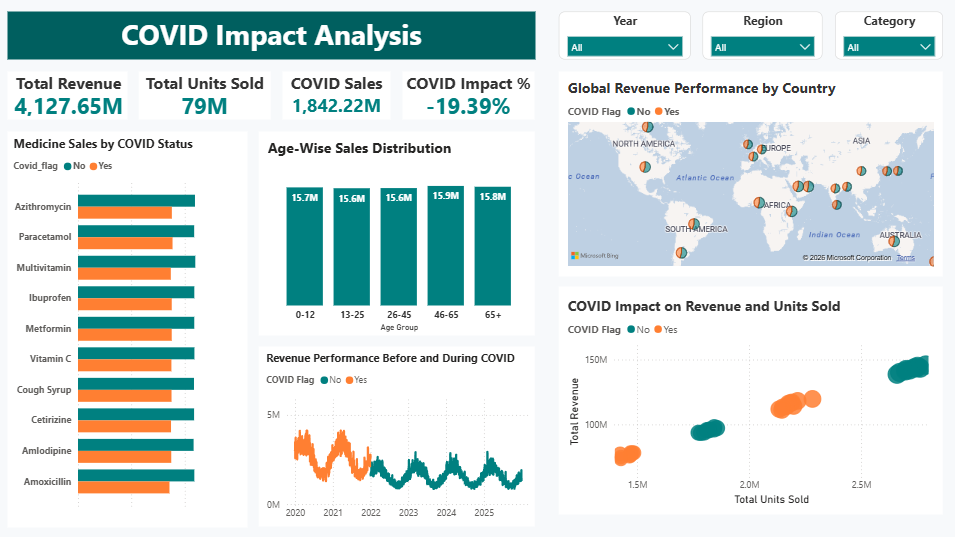

The dashboard page shown, as its layout file describes it:
{"tool":"powerbi","page":{"name":"COVID Impact Analysis","canvas":[1280,720],"ordinal":4},"visuals":[{"type":"textbox","box":[16,16,704,64],"z":0},{"type":"card","title":"Total Revenue","fields":{"Values":["_KPI_Table.Total Revenue"]},"box":[16,96,160,64],"z":1000},{"type":"card","title":"Total Units Sold","fields":{"Values":["_KPI_Table.Total Units Sold"]},"box":[192,96,176,64],"z":2000},{"type":"card","title":"COVID Impact %","fields":{"Values":["_KPI_Table.Covid Impact %"]},"box":[544,96,176,64],"z":3000},{"type":"card","title":"COVID Sales","fields":{"Values":["_KPI_Table.Sales During Covid"]},"box":[384,96,144,64],"z":4000},{"type":"lineChart","title":"Revenue Performance Before and During COVID","fields":{"Y":["_KPI_Table.Total Revenue"],"Series":["Fact_Sales.COVID Flag Text"],"Category":["Fact_Sales.date"]},"box":[352,464,368,240],"z":5000},{"type":"clusteredBarChart","title":"Medicine Sales by COVID Status","fields":{"Y":["_KPI_Table.Total Units Sold"],"Category":["Dim_Product.medicine"],"Series":["Fact_Sales.COVID Flag Text"]},"box":[16,176,320,528],"z":6000},{"type":"map","title":"Global Revenue Performance by Country","fields":{"Category":["Dim_Region.country"],"Size":["_KPI_Table.Total Revenue"],"Series":["Fact_Sales.COVID Flag Text"]},"box":[752,96,512,272],"z":7000},{"type":"scatterChart","title":"COVID Impact on Revenue and Units Sold","fields":{"X":["_KPI_Table.Total Units Sold"],"Y":["_KPI_Table.Total Revenue"],"Series":["Fact_Sales.COVID Flag Text"],"Size":["_KPI_Table.Total Revenue"],"Category":["Dim_Region.country","Dim_Region.region"]},"box":[752,384,512,304],"z":8000},{"type":"slicer","title":"Year","fields":{"Values":["Fact_Sales.year"]},"box":[752,16,176,64],"z":9000},{"type":"slicer","title":"Region","fields":{"Values":["Fact_Sales.region"]},"box":[944,16,160,64],"z":10000},{"type":"slicer","title":"Category","fields":{"Values":["Dim_Demographics.age_group"]},"box":[1120,16,144,64],"z":11000},{"type":"columnChart","title":"Age-Wise Sales Distribution","fields":{"Y":["_KPI_Table.Total Units Sold"],"Category":["Dim_Demographics.age_group"]},"box":[352,176,368,272],"z":12000}]}

Visuals, with their boxes in screenshot pixels (x1, y1, x2, y2), scaled from the page's 1280x720 canvas onto the 955x537 screenshot:
textbox: detection(12, 12, 537, 60)
"Total Revenue" card: detection(12, 72, 131, 119)
"Total Units Sold" card: detection(143, 72, 275, 119)
"COVID Impact %" card: detection(406, 72, 537, 119)
"COVID Sales" card: detection(286, 72, 394, 119)
"Revenue Performance Before and During COVID" lineChart: detection(263, 346, 537, 525)
"Medicine Sales by COVID Status" clusteredBarChart: detection(12, 131, 251, 525)
"Global Revenue Performance by Country" map: detection(561, 72, 943, 274)
"COVID Impact on Revenue and Units Sold" scatterChart: detection(561, 286, 943, 513)
"Year" slicer: detection(561, 12, 692, 60)
"Region" slicer: detection(704, 12, 824, 60)
"Category" slicer: detection(836, 12, 943, 60)
"Age-Wise Sales Distribution" columnChart: detection(263, 131, 537, 334)
